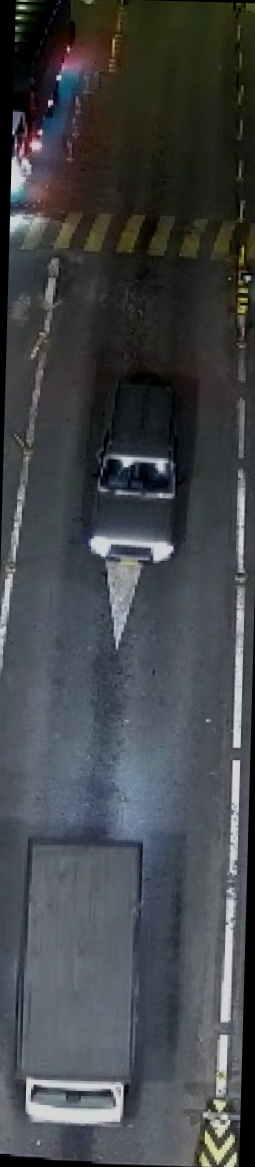car: (73, 371, 192, 572)
truck: (2, 816, 154, 1137), (12, 0, 86, 195)
